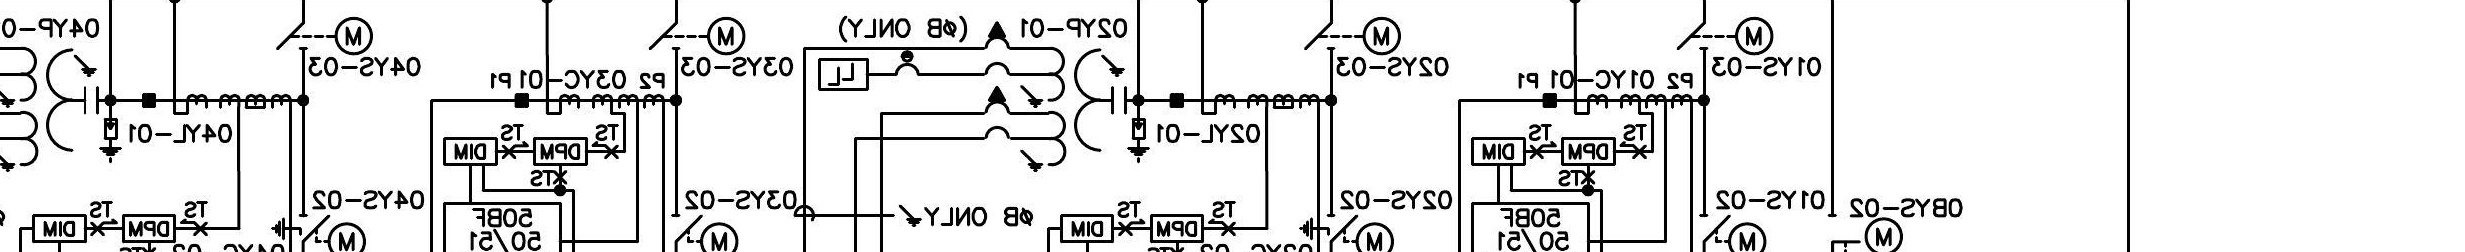115_1way_ds_w_motor: (1676, 16, 1775, 57), (1303, 16, 1402, 57), (648, 16, 747, 57), (275, 16, 374, 57)
115_cvt_1p: (983, 20, 1127, 173)
115_la: (1127, 118, 1151, 164), (99, 118, 123, 164)
DIM: (1470, 137, 1526, 167), (1060, 214, 1115, 244), (31, 214, 86, 244), (442, 137, 498, 165)
DPM: (533, 135, 588, 167), (1561, 137, 1616, 167), (121, 214, 176, 244), (1149, 214, 1204, 243)
LL: (817, 58, 869, 91)
